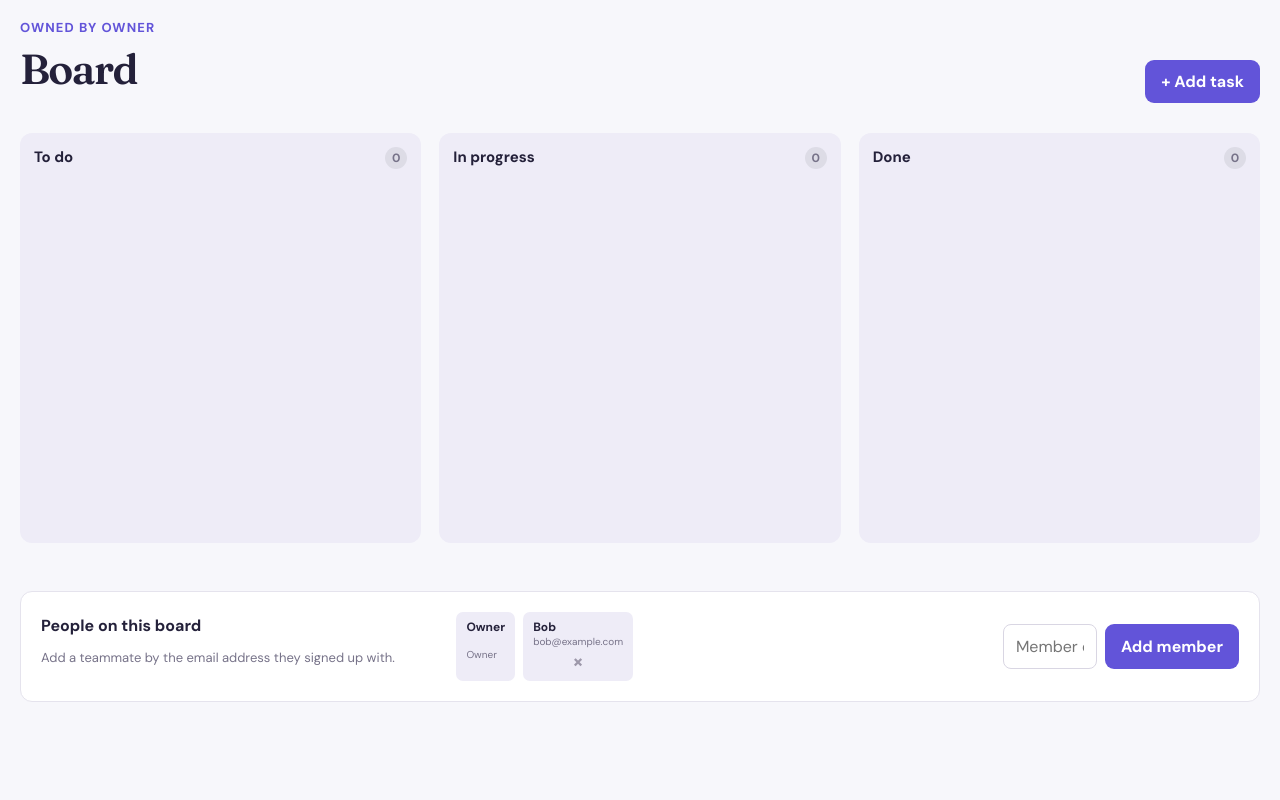
Test case: board member management › shows an error when adding an email with no matching account
The image size is (1280, 800).
(page scrolled)
Expected: the text "Bob" is shown, 533,619 -> 556,635
Step 1. Type "new@example.com" into the field with placeholder "Member email" → (1050, 646), box 1003,624 -> 1097,669
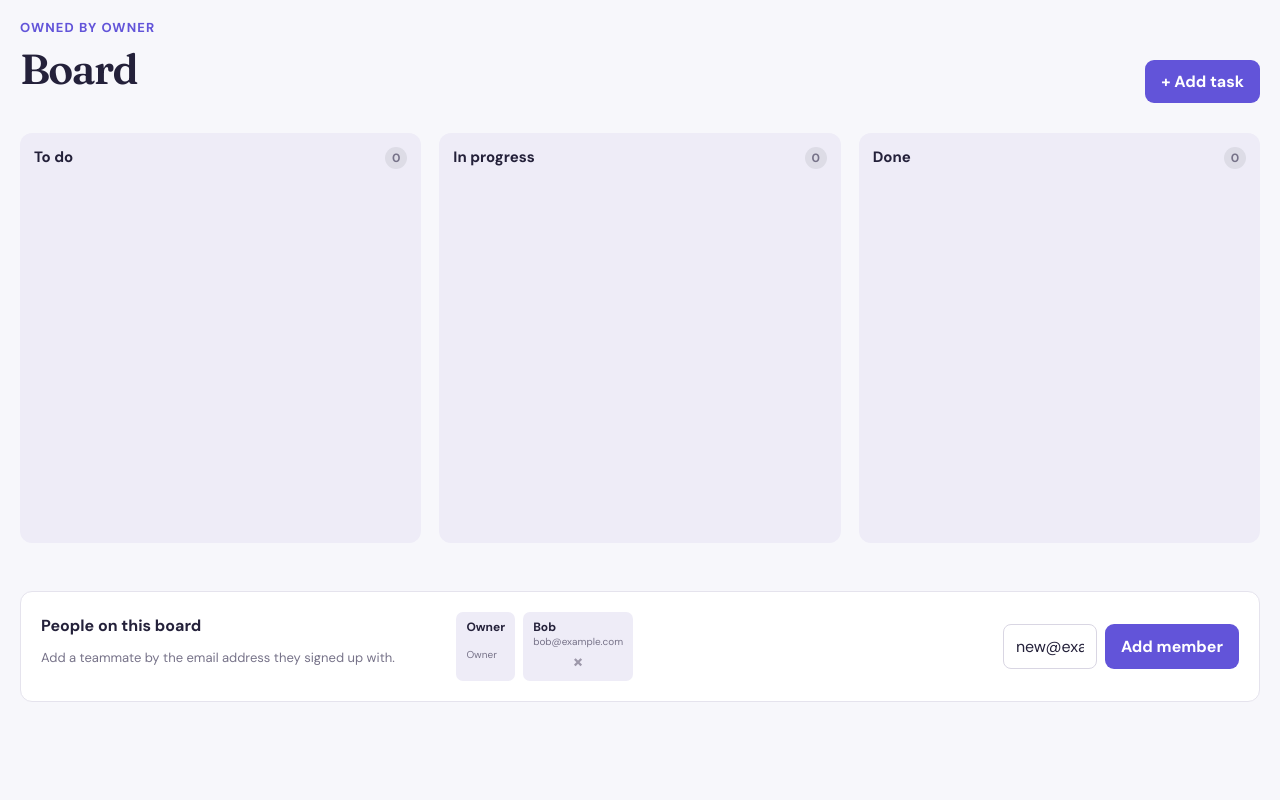
Step 2. Click the button "Add member" → (1172, 646), box 1105,624 -> 1239,669
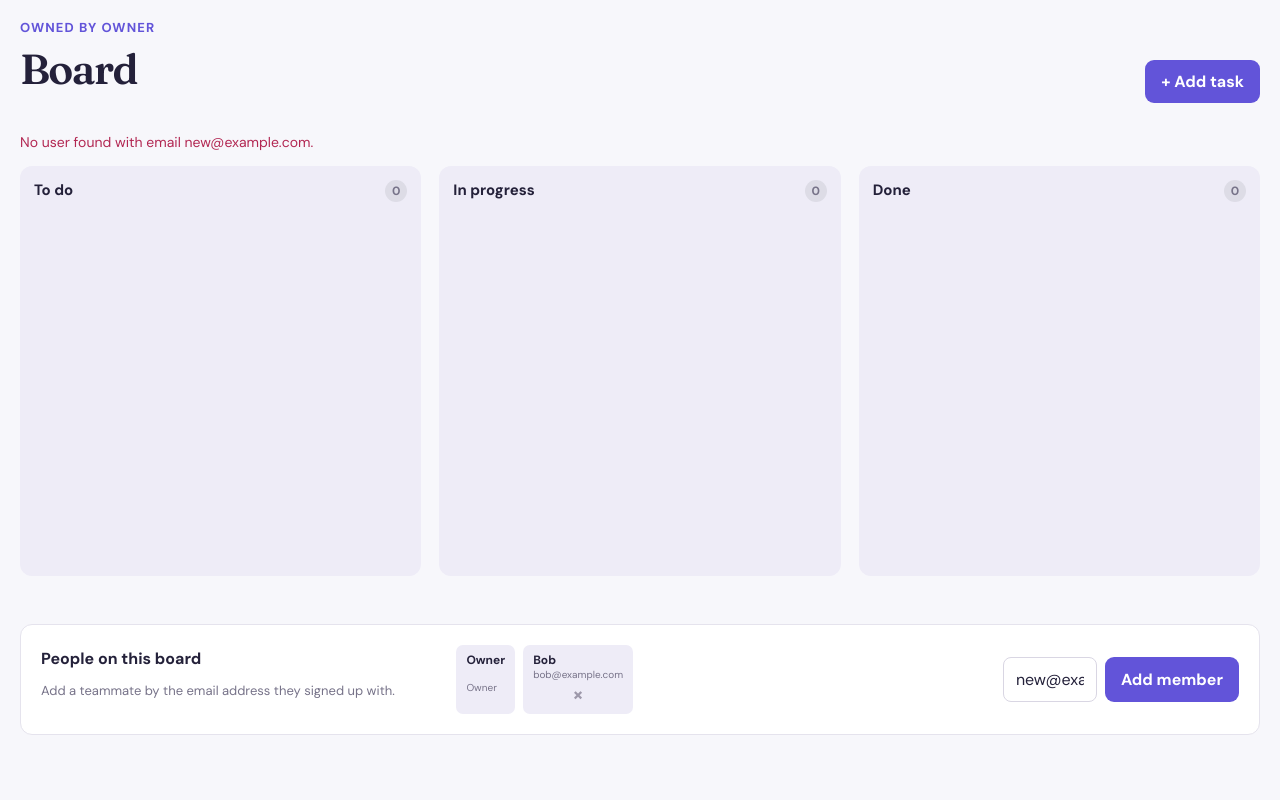
Expected: the text "No user found with email new@example.com." is shown, 20,133 -> 313,151
